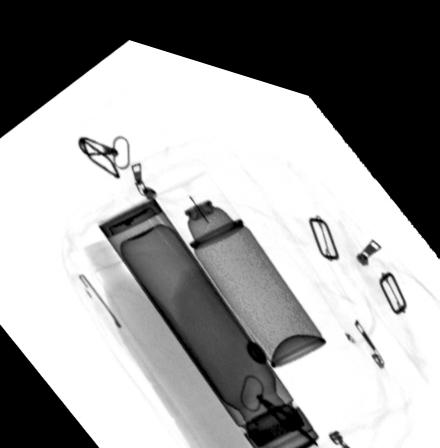Sprayer: (151, 155, 328, 353)
